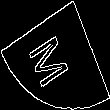M_NE: (30, 23, 80, 87)
